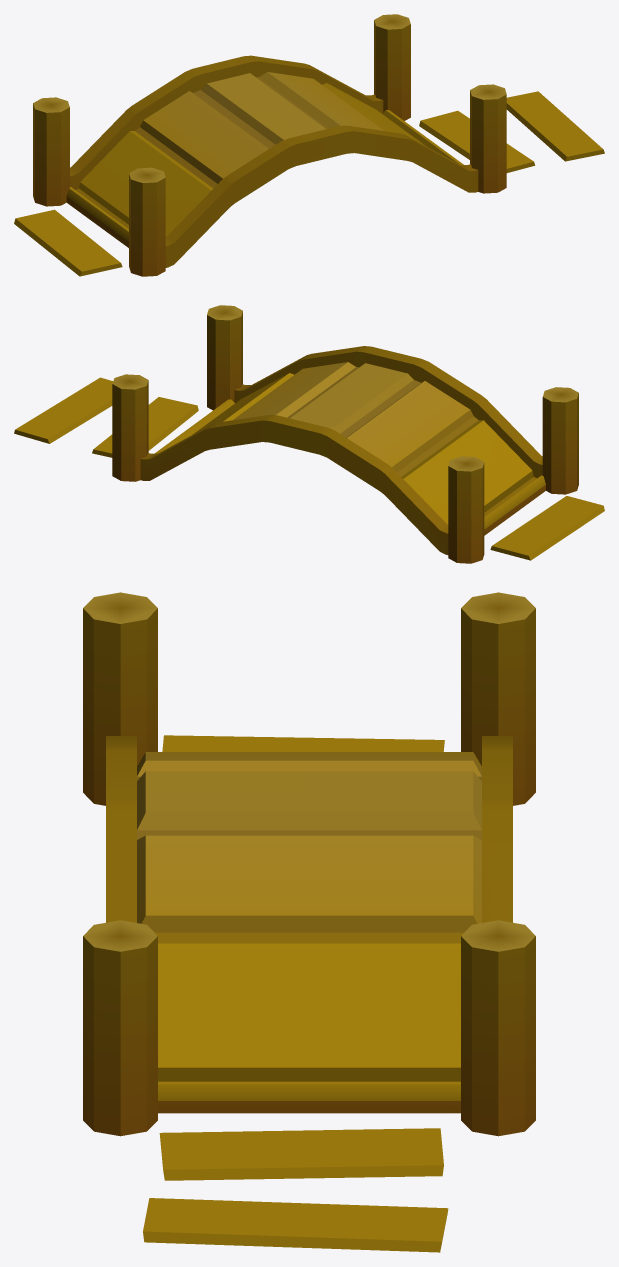
The model's file is LogBridge2.fbx.
3 renders of one model, top to bottom at view 1: azimuth 30°, elevation 25°; view 2: azimuth 150°, elevation 25°; view 3: azimuth 270°, elevation 25°, orthographic. The views are drawn at different scales.
Visible parts, largest first — view 1: Plane.268; view 2: Plane.268; view 3: Plane.268.
Boxes of the visible parts, x1,y1,x2,y2 form: Plane.268: (14, 14, 604, 276); Plane.268: (14, 305, 604, 563); Plane.268: (83, 592, 535, 1252).
Size of the model in its own units: 889 by 154 by 334.
